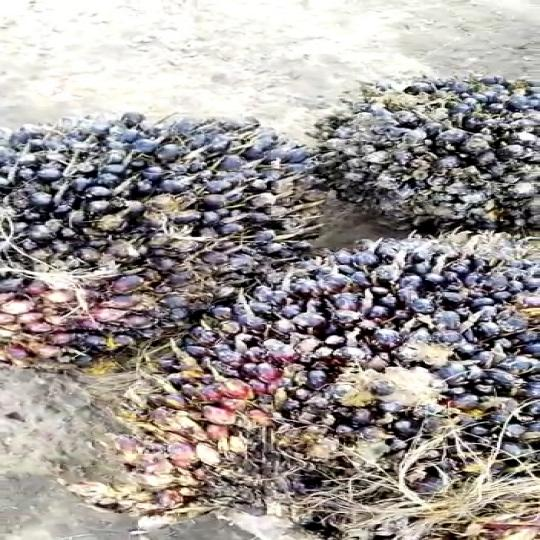mentah: (111, 213, 540, 535), (0, 103, 322, 371), (320, 63, 540, 247)
